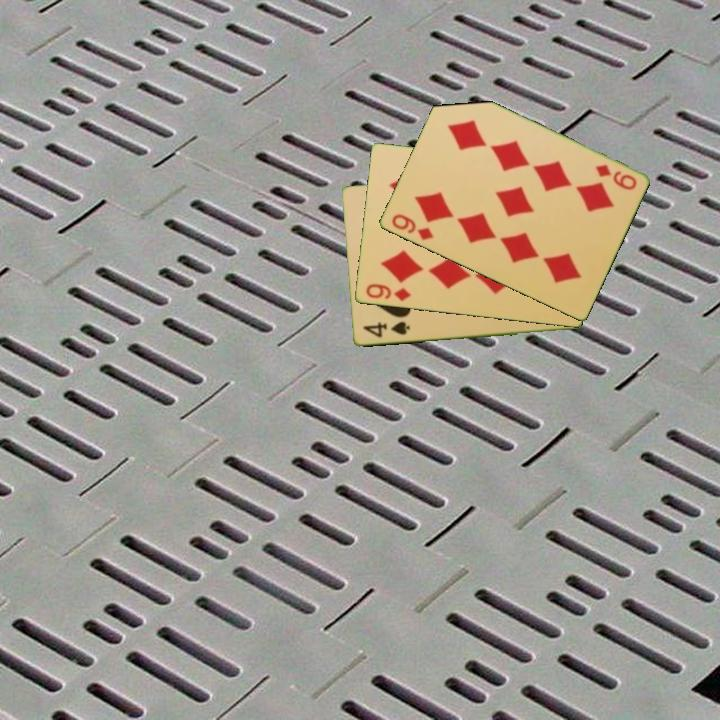4s: (359, 318, 412, 341)
9d: (388, 211, 437, 244), (591, 161, 639, 193), (362, 280, 413, 304)
